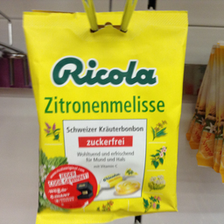candy: (20, 11, 186, 221)
